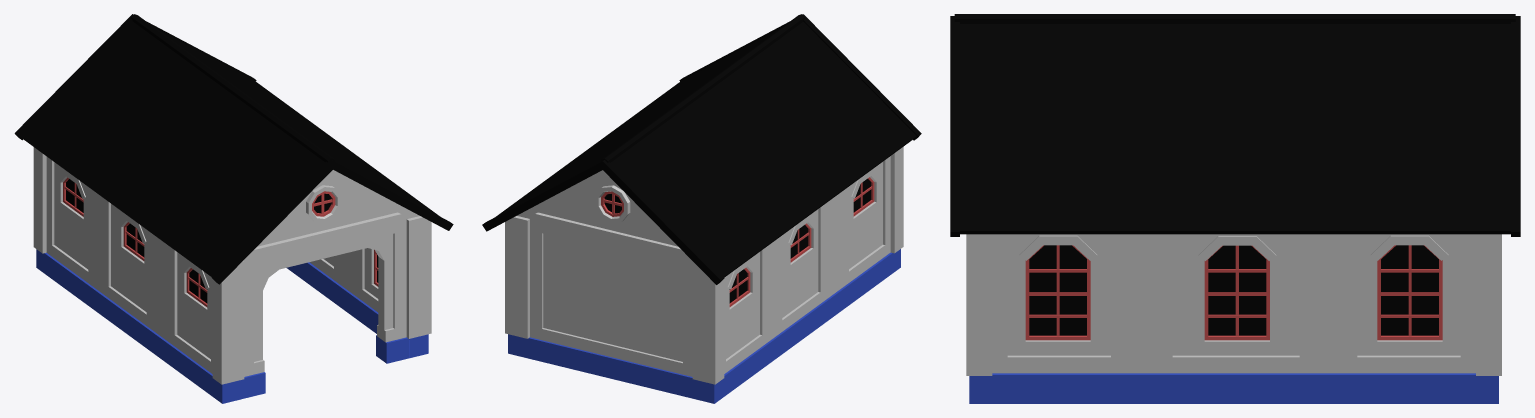
File: SM_intermediate_warehouse.fbx
3 views of the same model, side by side, from view 1: azimuth 30°, elevation 25°; view 2: azimuth 150°, elevation 25°; view 3: azimuth 270°, elevation 25° (orthographic). The views are drawn at different scales.
Parts seen in each view (by area): view 1: Cube; view 2: Cube; view 3: Cube.
Part boxes in pixels (<box>): Cube: <box>14,14,453,403</box>; Cube: <box>482,14,921,403</box>; Cube: <box>950,14,1520,403</box>.
Size of the model in its own units: 631 by 566 by 918.
